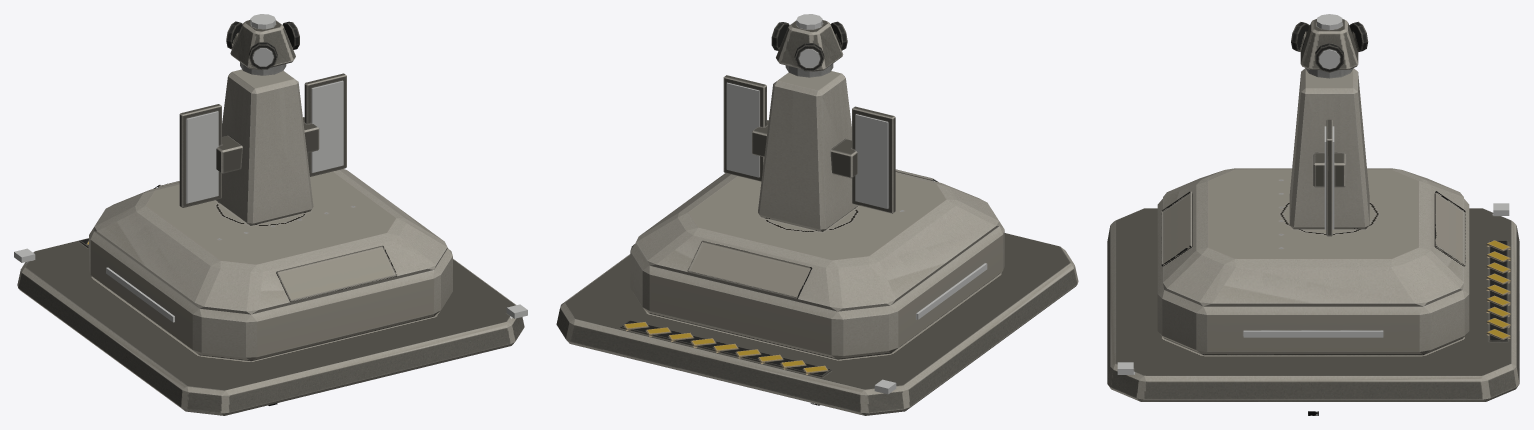
File: ord_curtain.fbx
The picture shows the model from 3 angles, left to right: view 1: azimuth 30°, elevation 25°; view 2: azimuth 150°, elevation 25°; view 3: azimuth 270°, elevation 25°; orthographic projection. The views are drawn at different scales.
Parts seen in each view (by area): view 1: base_bar, base_glow_power_bar, tip_bar, base_glow_running_bar, tip_glow_power_bar; view 2: base_bar, base_glow_power_bar, tip_bar, base_glow_running_bar, tip_glow_power_bar; view 3: base_bar, tip_bar, base_glow_running_bar, tip_glow_power_bar, base_glow_power_bar.
Part boxes in pixels (x1,y1,x2,y2): base_bar: (17,62,524,415); base_glow_power_bar: (186,81,343,203); tip_bar: (226,20,299,69); base_glow_running_bar: (14,248,527,322); tip_glow_power_bar: (250,14,275,66); base_bar: (556,63,1078,415); base_glow_power_bar: (726,82,888,208); tip_bar: (771,20,847,71); base_glow_running_bar: (874,263,987,394); tip_glow_power_bar: (796,14,822,67); base_bar: (1107,68,1519,401); tip_bar: (1291,19,1368,72); base_glow_running_bar: (1117,203,1509,374); tip_glow_power_bar: (1317,14,1342,69); base_glow_power_bar: (1324,126,1334,229).
Size of the model in its own units: 768 by 810 by 768.
Materials: 2 (2 with a texture image).
